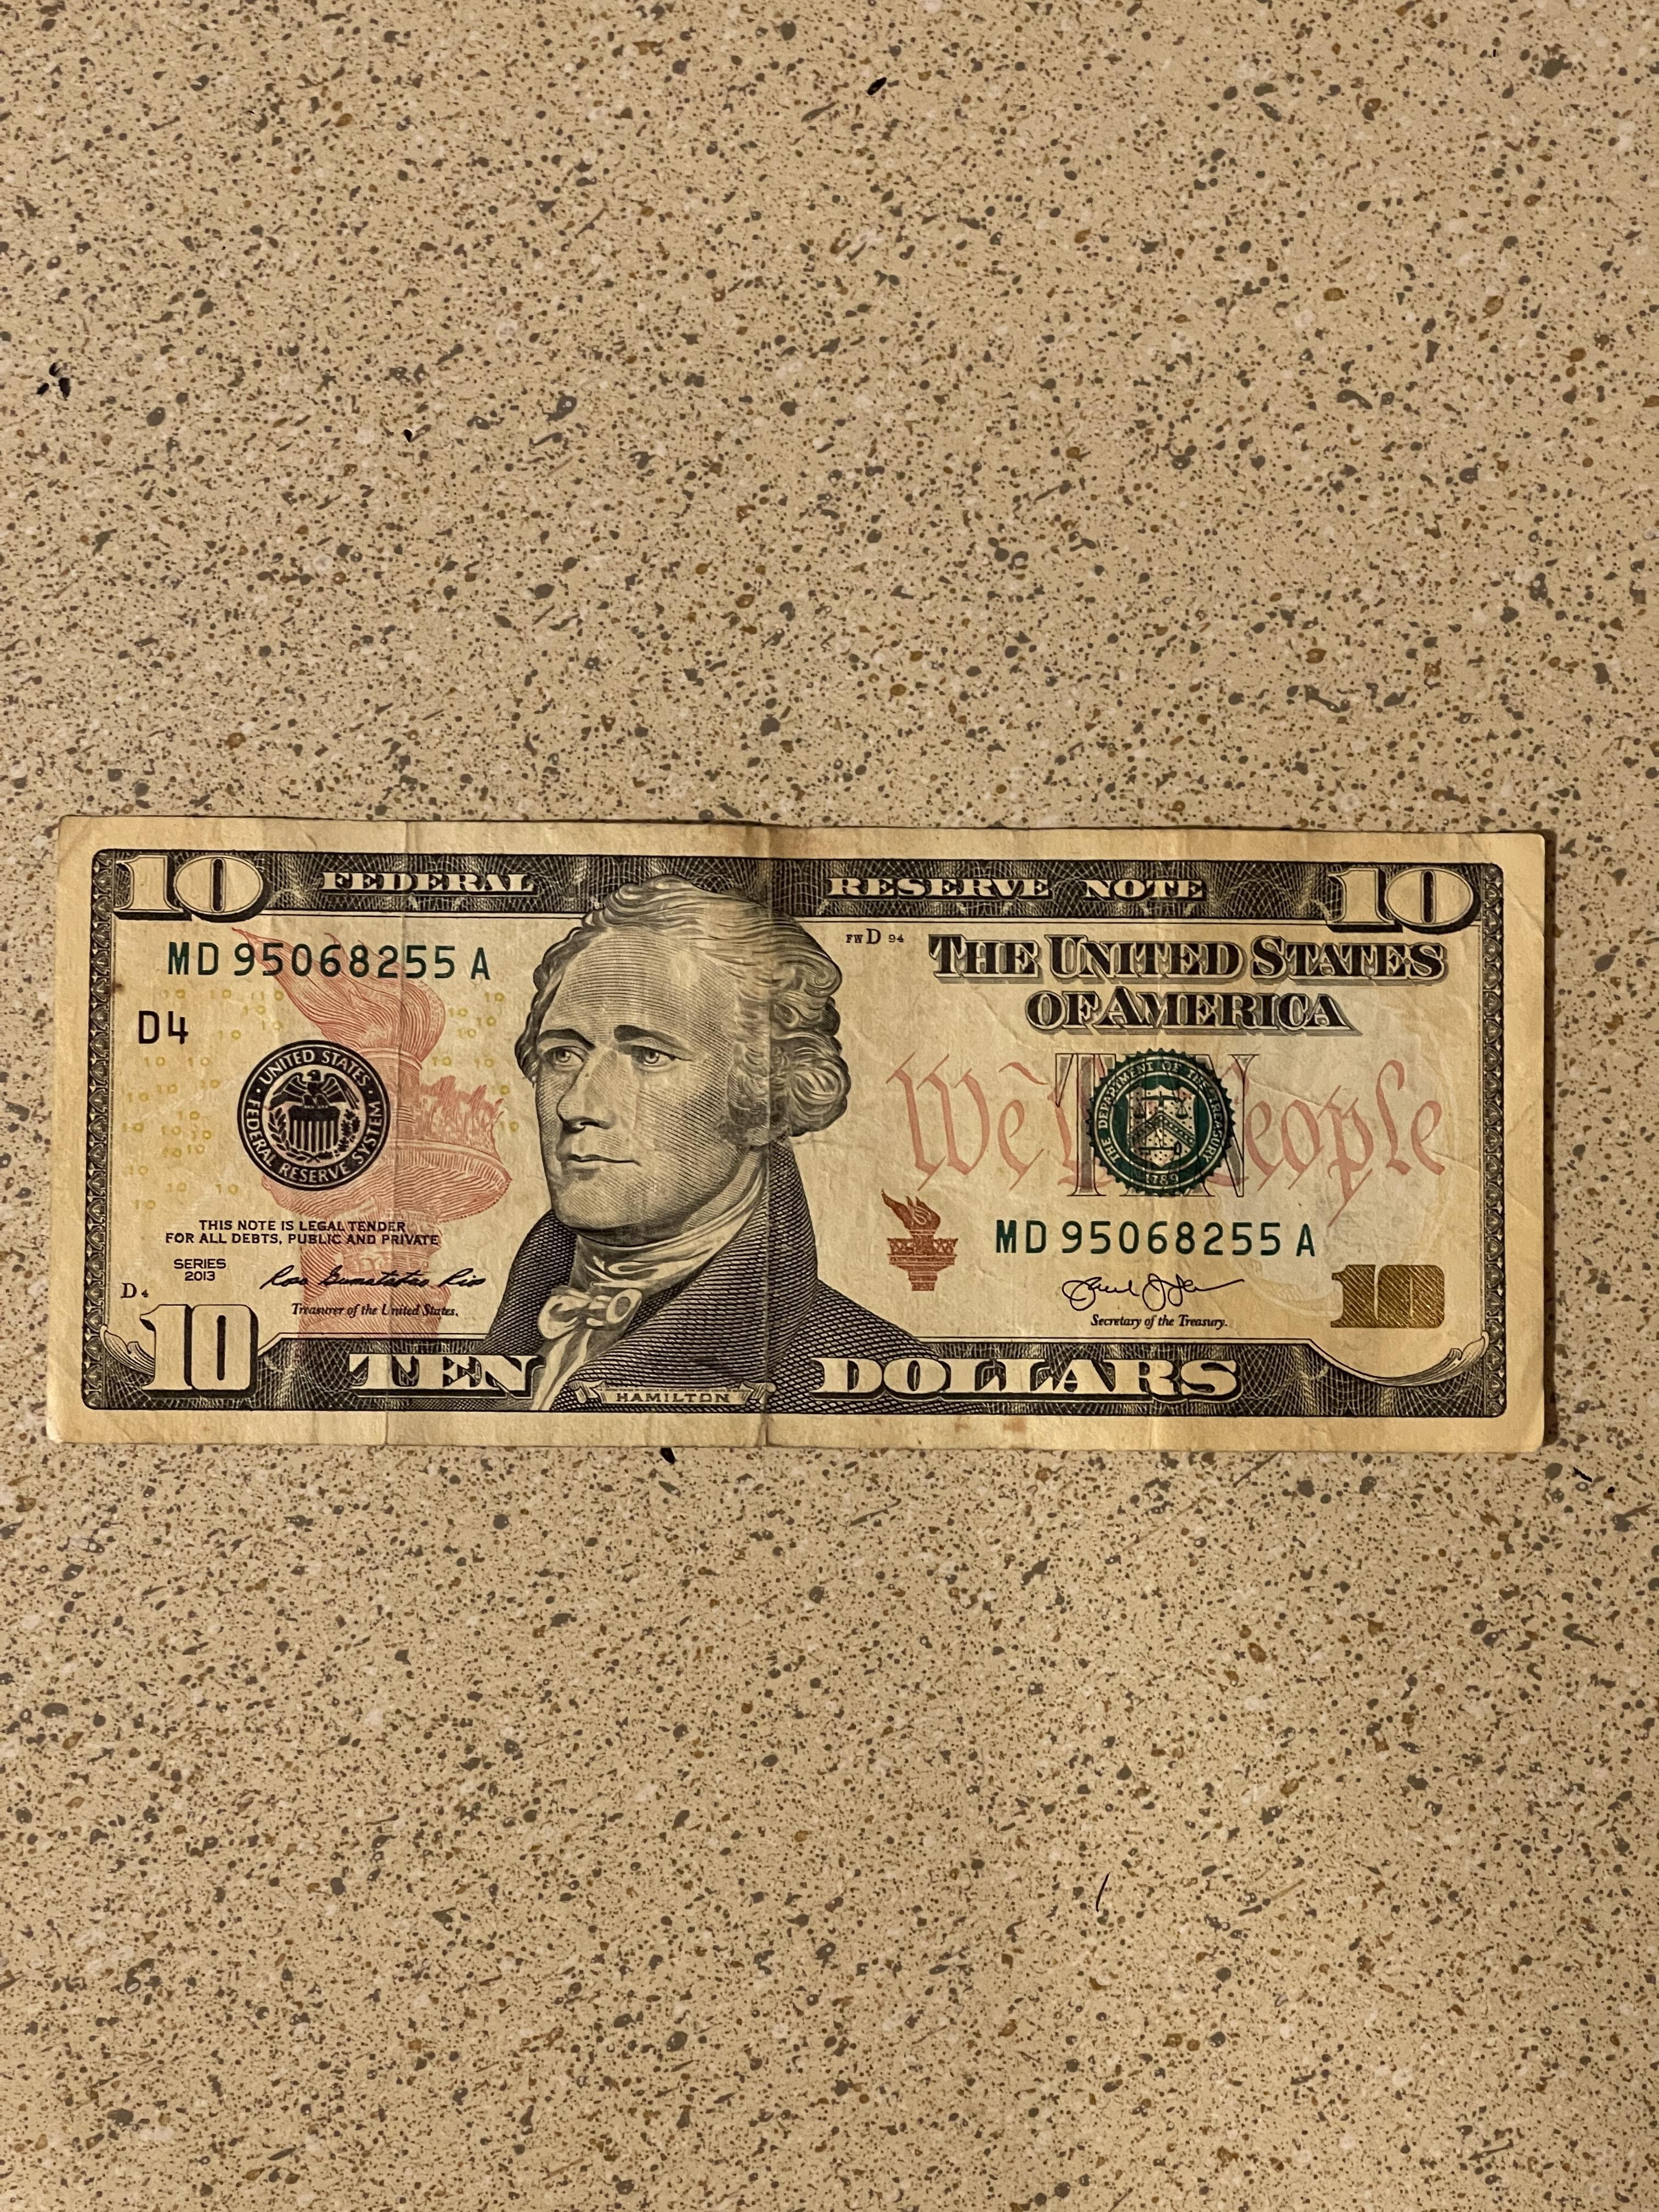TenBill: (38, 812, 1561, 1460)
